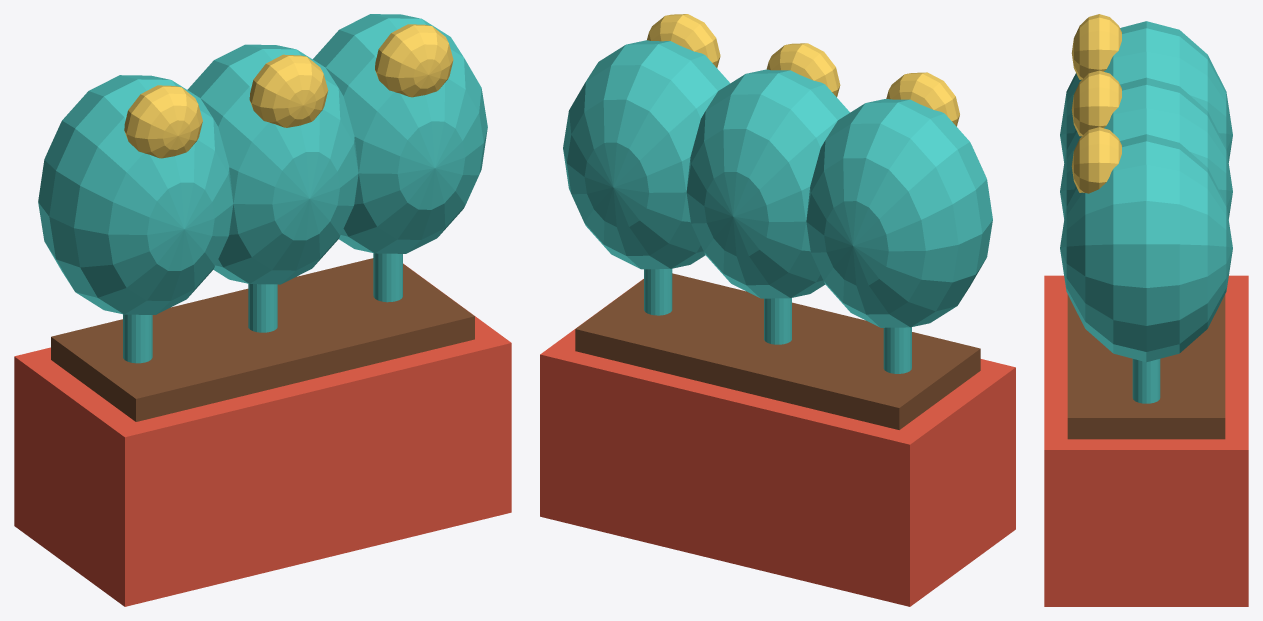
File: bp_decorplanter.glb
3 renders of one model, left to right at view 1: azimuth 30°, elevation 25°; view 2: azimuth 150°, elevation 25°; view 3: azimuth 270°, elevation 25°, orthographic. The views are drawn at different scales.
Parts seen in each view (by area): view 1: Planter, Soil, Leaves, Leaves.002, Leaves.001, Flower, Flower.002, Flower.001, Stem.002, Stem, Stem.001; view 2: Planter, Leaves, Soil, Leaves.002, Leaves.001, Flower.001, Flower, Flower.002, Stem, Stem.002, Stem.001; view 3: Planter, Leaves.002, Soil, Leaves, Leaves.001, Flower.002, Flower.001, Flower, Stem.002.
Part boxes in pixels (left/top/right/bottom): Planter: left=14, top=263, right=511, bottom=606; Soil: left=51, top=258, right=474, bottom=421; Leaves: left=38, top=75, right=233, bottom=314; Leaves.002: left=313, top=14, right=487, bottom=253; Leaves.001: left=187, top=44, right=358, bottom=284; Flower: left=124, top=85, right=202, bottom=158; Flower.002: left=375, top=24, right=453, bottom=97; Flower.001: left=249, top=54, right=328, bottom=127; Stem.002: left=373, top=253, right=402, bottom=302; Stem: left=123, top=314, right=152, bottom=363; Stem.001: left=248, top=284, right=277, bottom=332; Planter: left=540, top=279, right=1015, bottom=606; Leaves: left=806, top=99, right=992, bottom=327; Soil: left=575, top=273, right=980, bottom=429; Leaves.002: left=563, top=40, right=730, bottom=269; Leaves.001: left=686, top=69, right=849, bottom=298; Flower.001: left=766, top=43, right=840, bottom=97; Flower: left=886, top=72, right=959, bottom=126; Flower.002: left=647, top=14, right=720, bottom=67; Stem: left=883, top=327, right=911, bottom=373; Stem.002: left=644, top=269, right=672, bottom=315; Stem.001: left=764, top=298, right=791, bottom=344; Planter: left=1044, top=275, right=1248, bottom=606; Leaves.002: left=1060, top=134, right=1232, bottom=362; Soil: left=1067, top=294, right=1225, bottom=439; Leaves: left=1060, top=21, right=1232, bottom=162; Leaves.001: left=1060, top=77, right=1232, bottom=219; Flower.002: left=1071, top=127, right=1121, bottom=193; Flower.001: left=1071, top=70, right=1121, bottom=136; Flower: left=1071, top=14, right=1121, bottom=79; Stem.002: left=1132, top=359, right=1160, bottom=403.
Size of the model in its own units: 1.16 by 1.25 by 0.52.
